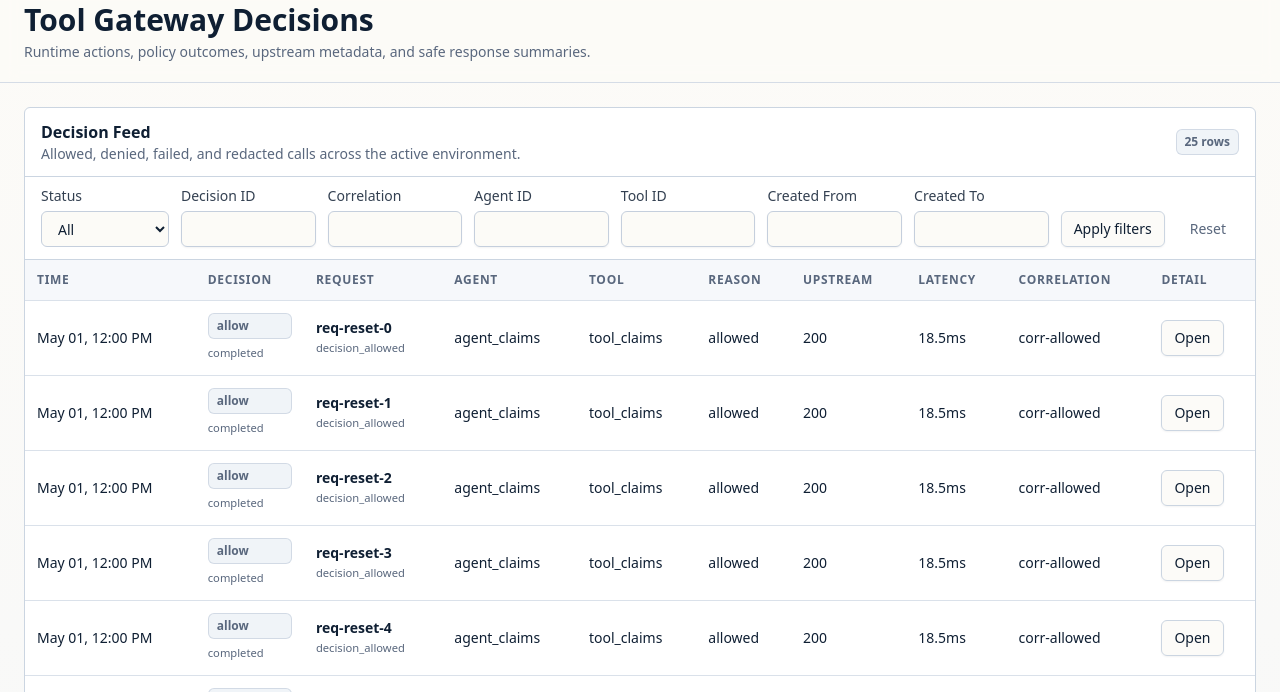
Test: ToolDecisionsPage › reset clears filters and pagination
Expected: the text "req-reset-0" is shown, [316,318,392,336]
Select "denied" in the dropdown labelled "Status" at (105, 229), box [41,211,169,247]
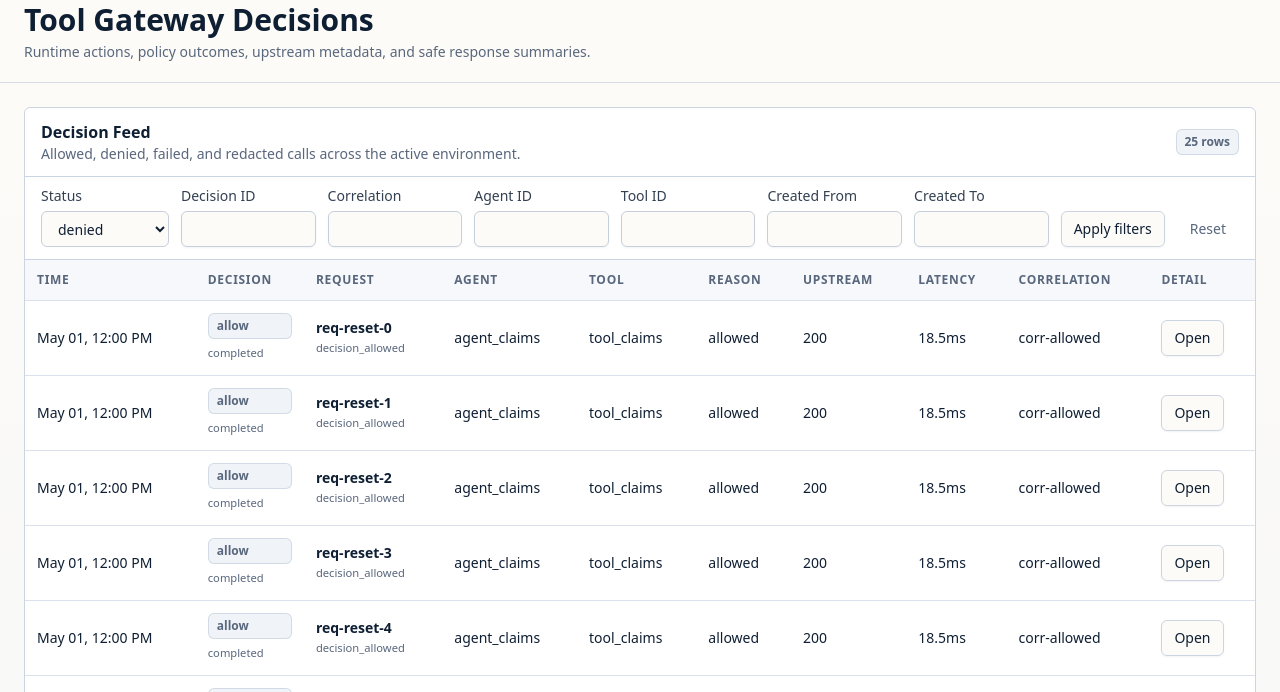
Type "tool_claims" into the field labelled "Tool ID".
click(688, 229); type("tool_claims")  # box [621,211,755,247]
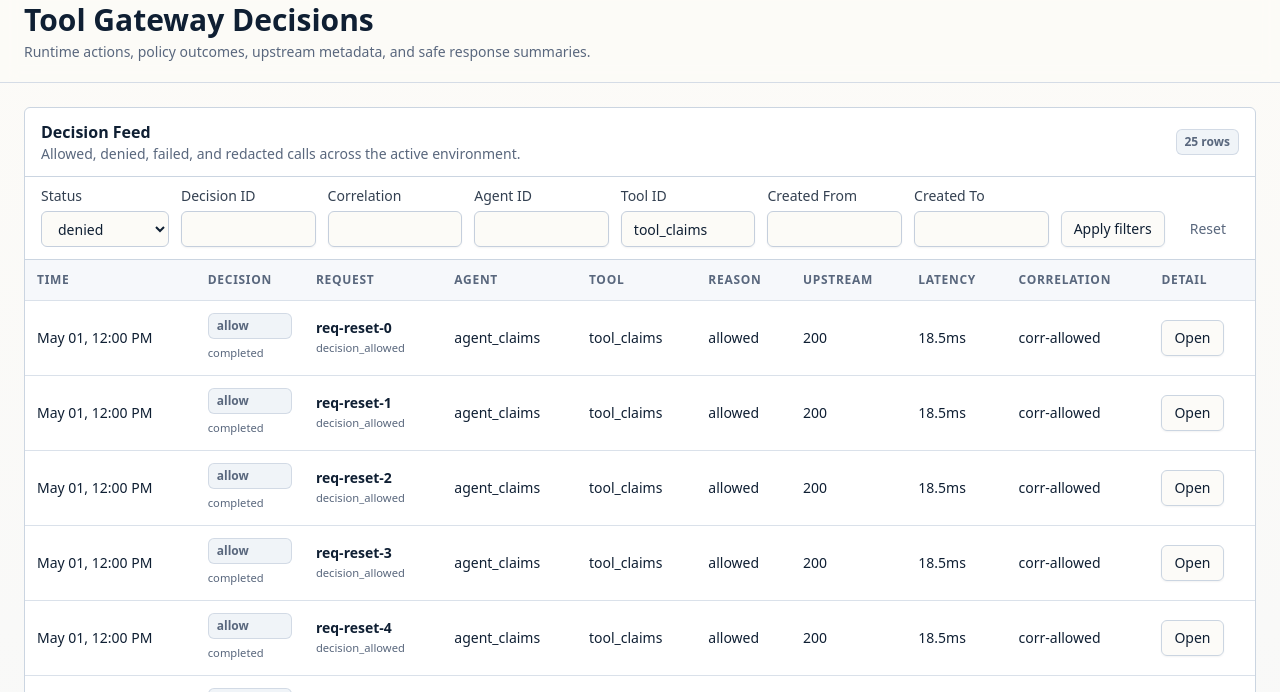
Click the button "Apply filters".
click(1113, 229)  # box [1061,211,1165,247]
(page scrolled)
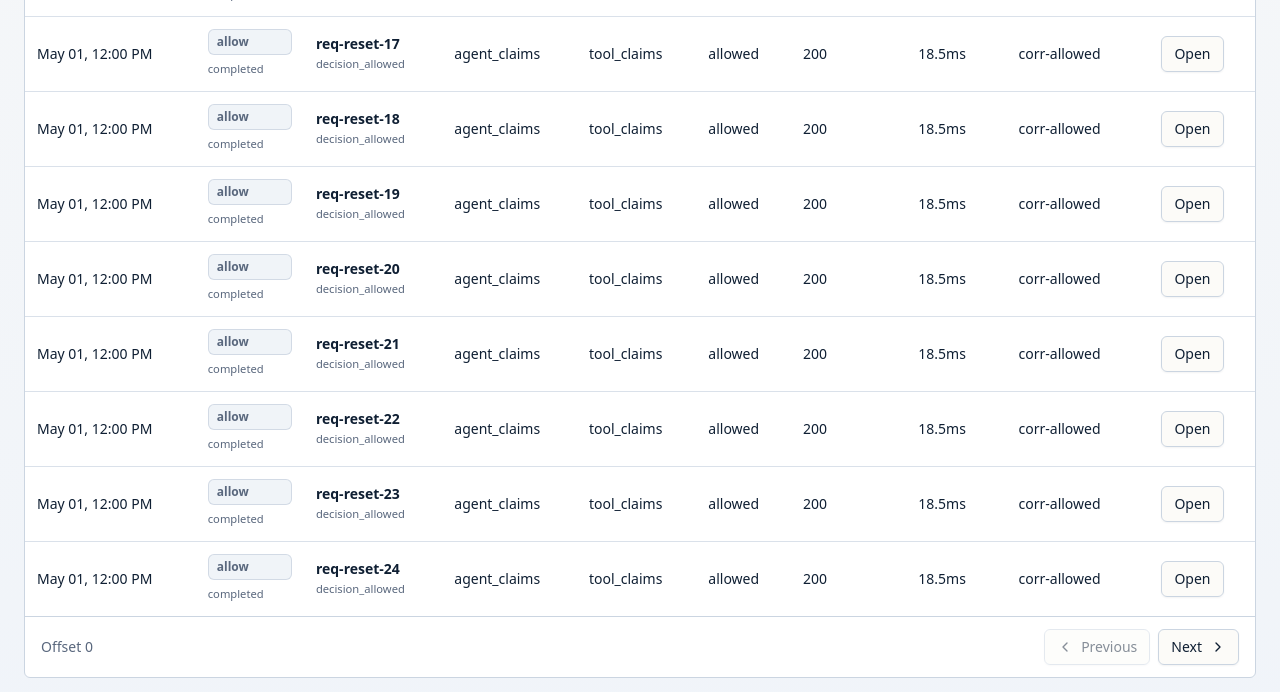
Click the button "Next".
click(1199, 646)  # box [1158,628,1239,664]
(page scrolled)
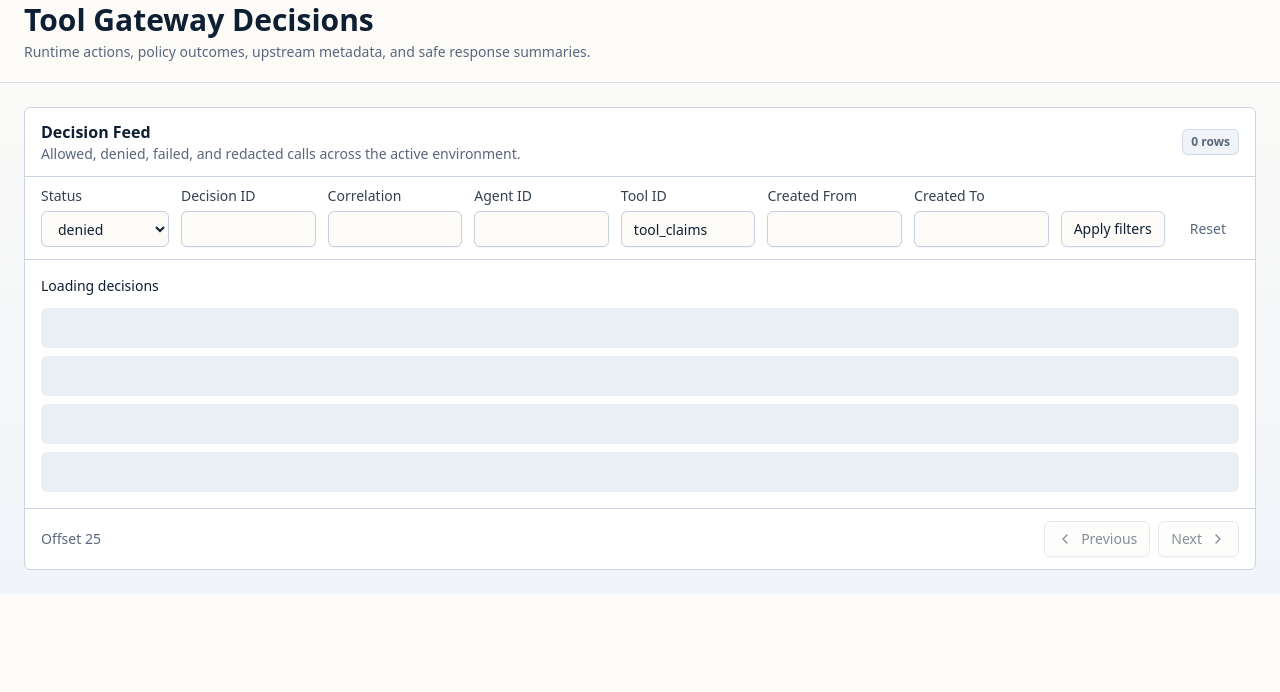
Click the button "Reset".
click(1208, 229)  # box [1177,211,1239,247]
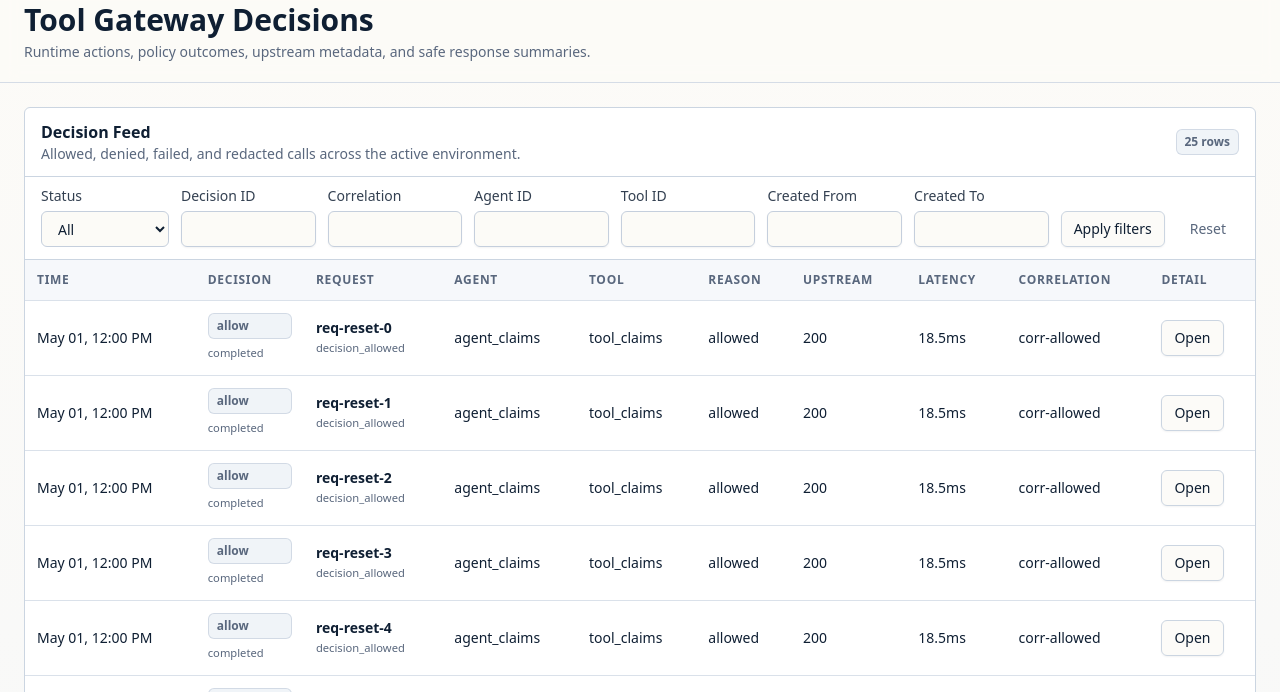
Result: the field labelled "Tool ID" is empty at [621,211,755,247]
